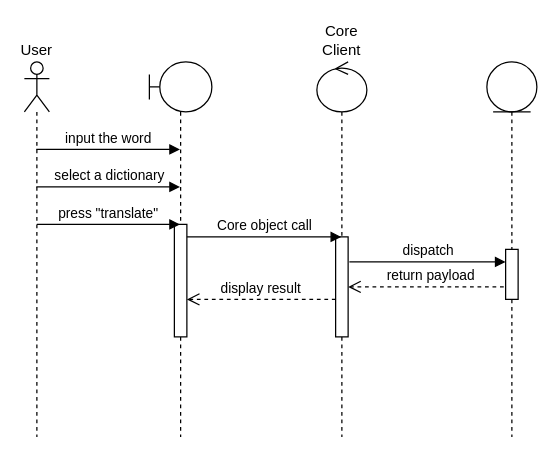
Some shapes in this 559 by 459 pixel diagram are drawn without their labels. Here are the shapes that lost their labels. From the top down, the centre of each, then its label:
At point 180,249: "GUI Client".
At point 511,249: "DICT Server".
